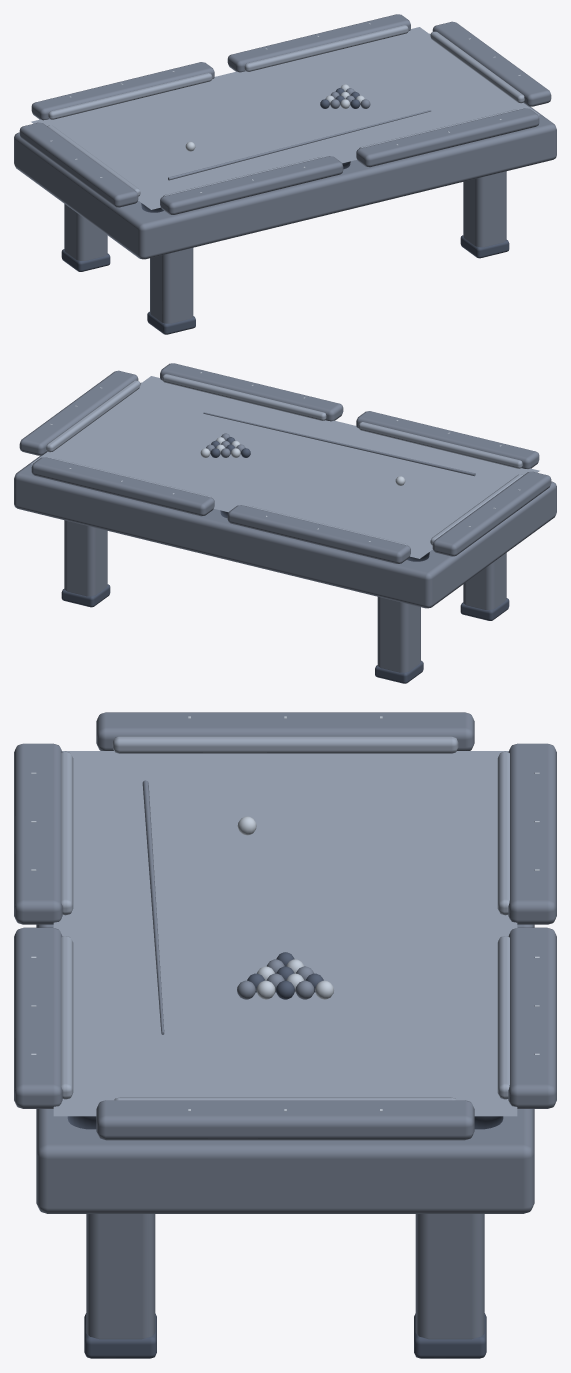
The model's file is 台球桌-lite.glb.
The picture shows the model from 3 angles, top to bottom: view 1: azimuth 30°, elevation 25°; view 2: azimuth 150°, elevation 25°; view 3: azimuth 270°, elevation 25°; orthographic projection. The views are drawn at different scales.
Visible parts, largest first — view 1: pool-table; view 2: pool-table; view 3: pool-table.
Part boxes in pixels (<box>): pool-table: <box>14,14,556,334</box>; pool-table: <box>14,363,556,683</box>; pool-table: <box>14,712,556,1358</box>.
Bounding box in the file's own units: 2.54 × 0.823 × 1.42.
